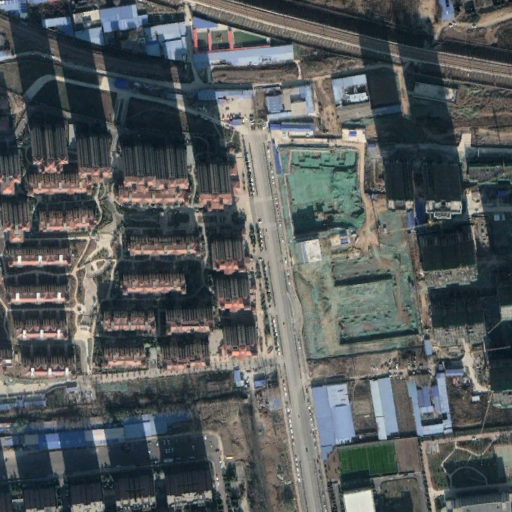cw: (280, 145, 425, 360)
